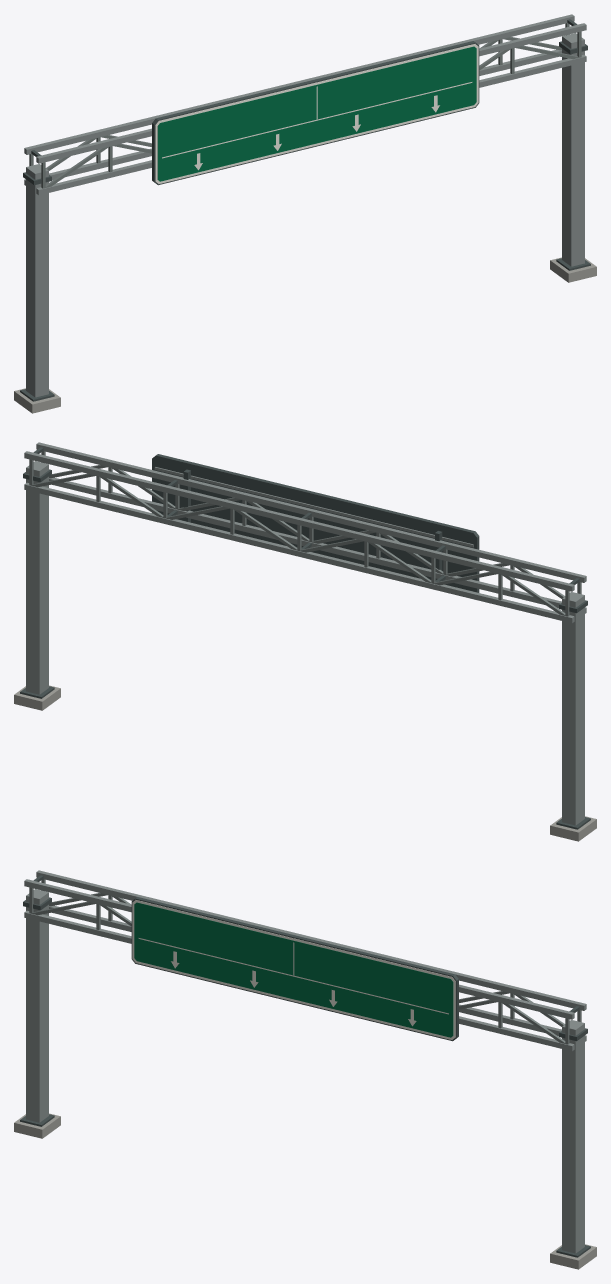
File: sg-gantry-sign.glb
3 views of the same model, one above another, from view 1: azimuth 30°, elevation 25°; view 2: azimuth 150°, elevation 25°; view 3: azimuth 330°, elevation 25° (orthographic).
Parts seen in each view (by area): view 1: green_direction_panel, span_truss, left_support, right_support, lane_arrows; view 2: span_truss, green_direction_panel, left_support, right_support, panel_stiffeners; view 3: green_direction_panel, span_truss, right_support, left_support, lane_arrows.
Boxes of the visible parts, x1,y1,x2,y2 form: green_direction_panel: (152, 41, 479, 185); span_truss: (24, 14, 586, 195); left_support: (14, 164, 60, 413); right_support: (550, 33, 596, 282); lane_arrows: (162, 82, 472, 170); span_truss: (24, 442, 586, 623); green_direction_panel: (152, 454, 479, 592); left_support: (550, 592, 596, 841); right_support: (14, 461, 60, 710); panel_stiffeners: (154, 467, 473, 547); green_direction_panel: (131, 897, 458, 1041); span_truss: (24, 870, 586, 1051); right_support: (550, 1020, 596, 1269); left_support: (14, 889, 60, 1138); lane_arrows: (138, 938, 448, 1026).
Size of the model in its own units: 16.85 by 7.56 by 1.08.
